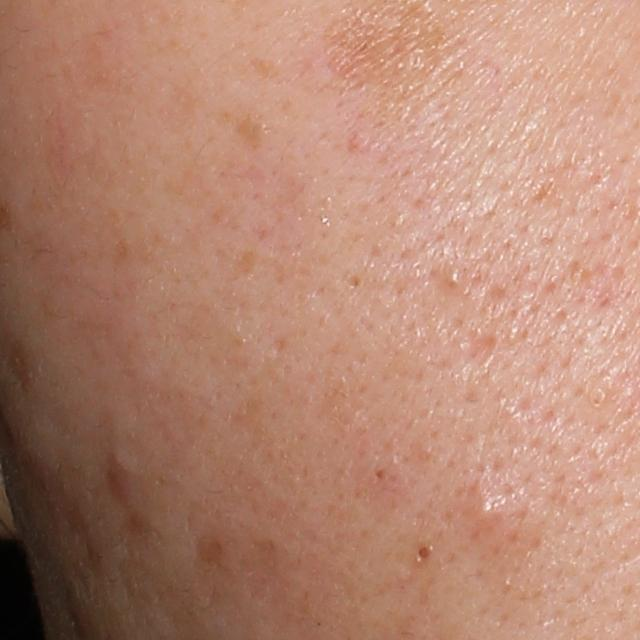atrophic_scar: (453, 330, 501, 368)
comedo: (441, 266, 468, 301), (411, 541, 437, 563)
